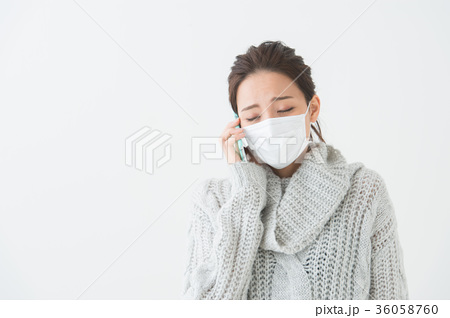mask: (240, 117, 314, 172)
